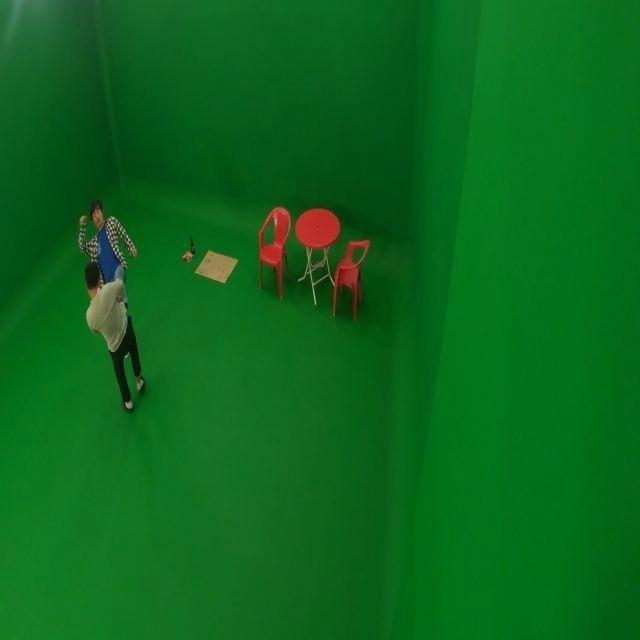fight: (74, 195, 149, 412)
